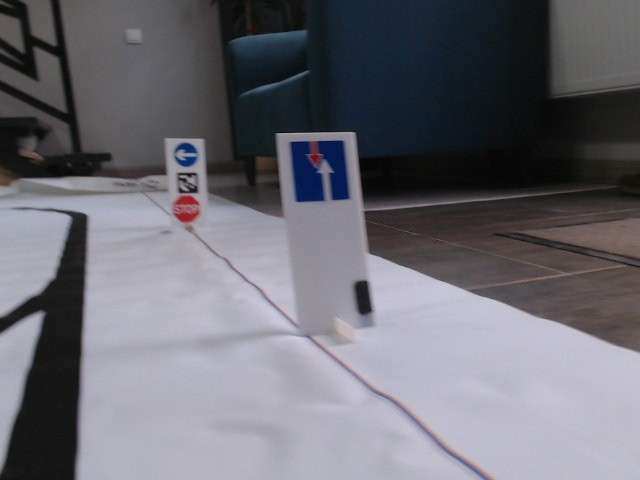Stop: (173, 195, 199, 222)
priority_movement: (286, 138, 351, 202)
